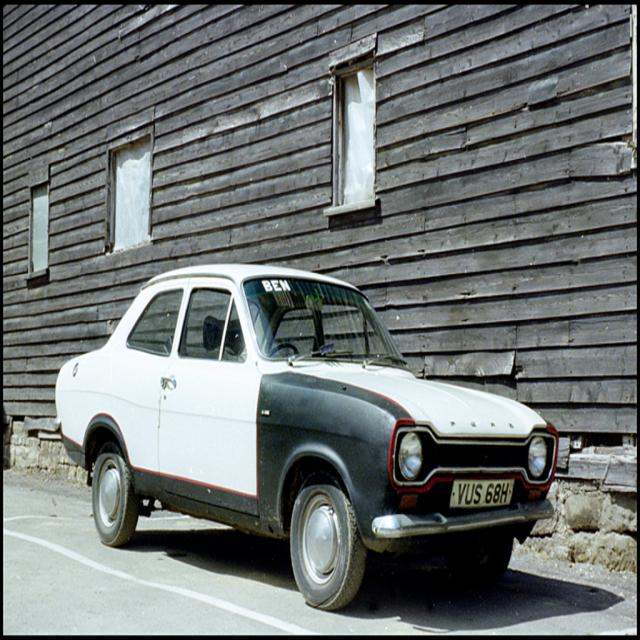car: (50, 250, 564, 606)
